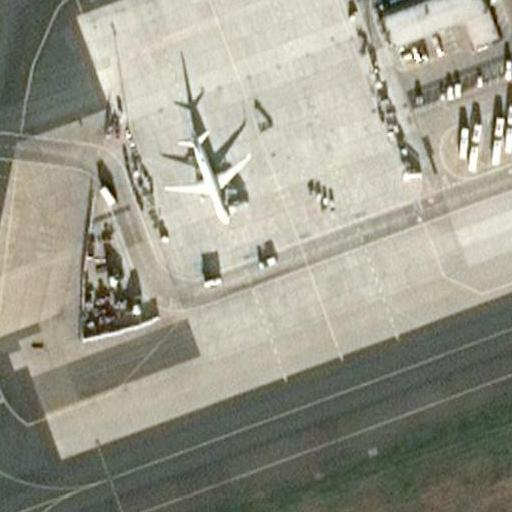Aircraft: (162, 122, 253, 223)
